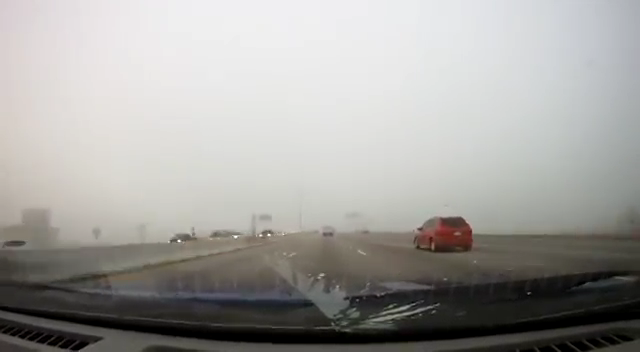car: (413, 216, 474, 252), (167, 233, 198, 246), (322, 225, 334, 238)
